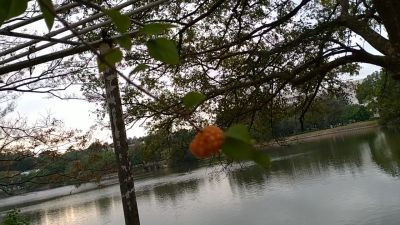eggs: (189, 123, 226, 161)
